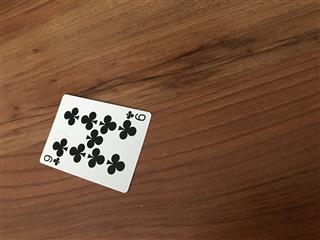NineOfClubs: (38, 92, 152, 194)
